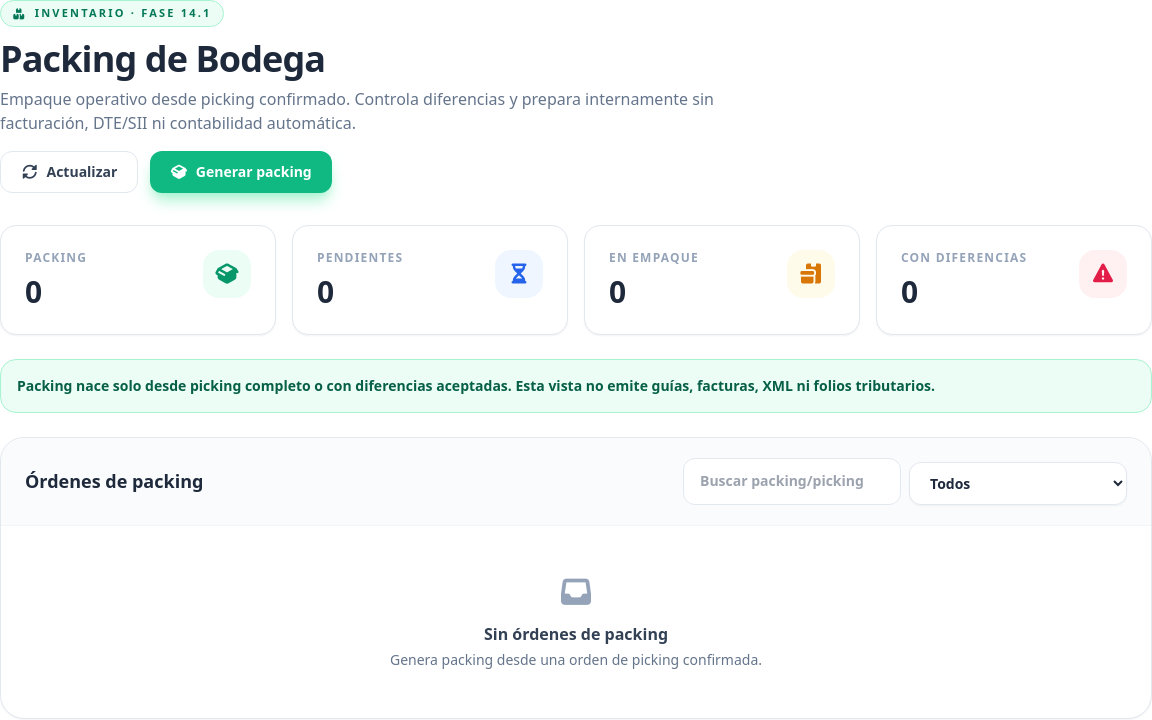
Test: PackingInventario (vista) › abre el formulario al hacer clic en "Generar packing"
Click the button "Generar packing": (241, 172) [150,151,332,193]
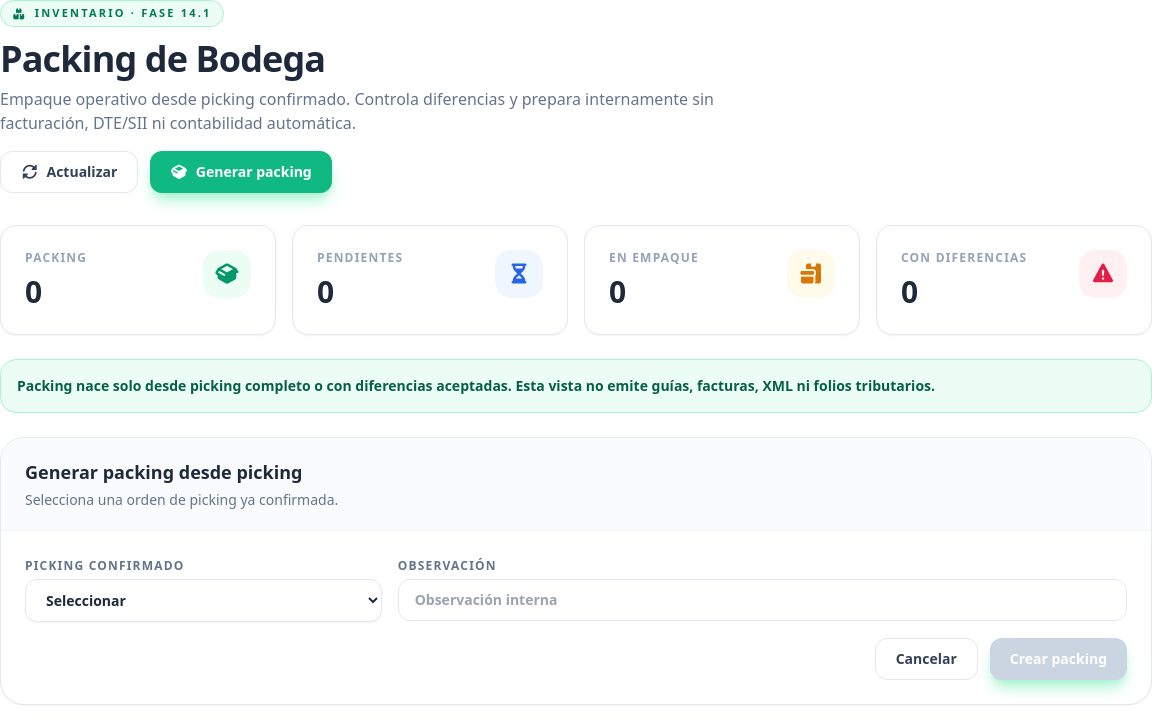
Expected: the heading "Generar packing desde picking" is shown, [25,458,338,486]
